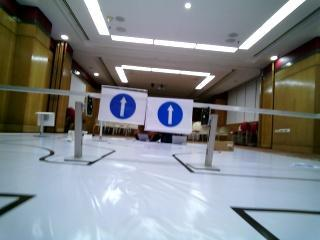straight: (101, 84, 146, 126), (151, 95, 189, 131)
